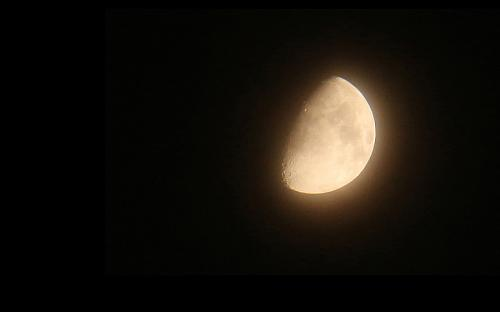moon: (277, 75, 377, 195)
